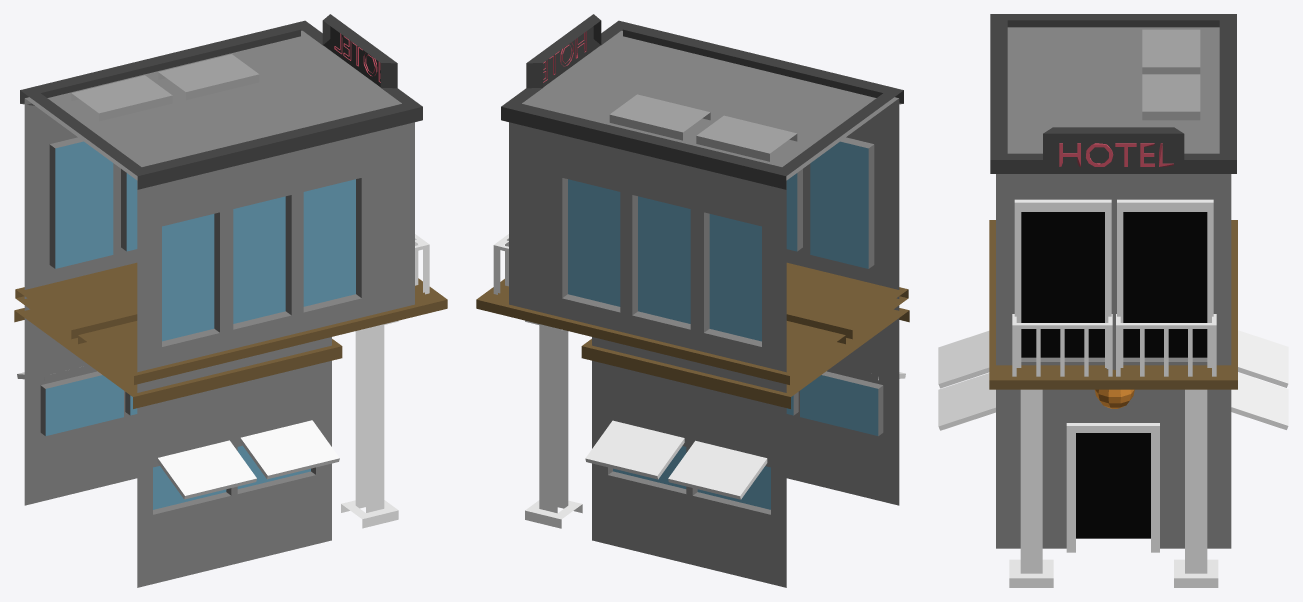
The model's file is LP_House_5.fbx.
The picture shows the model from 3 angles, left to right: view 1: azimuth 30°, elevation 25°; view 2: azimuth 150°, elevation 25°; view 3: azimuth 270°, elevation 25°; orthographic projection. The views are drawn at different scales.
Visible parts, largest first — view 1: Cube, Cube.006, Cube.001, Cube.004, Cube.010; view 2: Cube, Cube.006, Cube.001, Cube.004, Cube.010; view 3: Cube, Cube.001, Cube.004, Cube.010, Cube.006, Text.
Part boxes in pixels (box(x1,y1,x2,y2)): Cube: box(17, 30, 414, 587); Cube.006: box(14, 262, 447, 408); Cube.001: box(20, 14, 422, 189); Cube.004: box(341, 320, 398, 528); Cube.010: box(415, 234, 429, 294); Cube: box(509, 30, 905, 587); Cube.006: box(476, 262, 909, 408); Cube.001: box(501, 14, 903, 189); Cube.004: box(525, 320, 582, 528); Cube.010: box(493, 234, 508, 294); Cube: box(938, 27, 1288, 552); Cube.001: box(990, 14, 1236, 173); Cube.004: box(1009, 389, 1218, 587); Cube.010: box(1012, 199, 1216, 376); Cube.006: box(989, 220, 1237, 408); Text: box(1059, 143, 1173, 166).
Bounding box in the file's own units: 323 × 433 × 297.
Materials: 1 (1 with a texture image).
